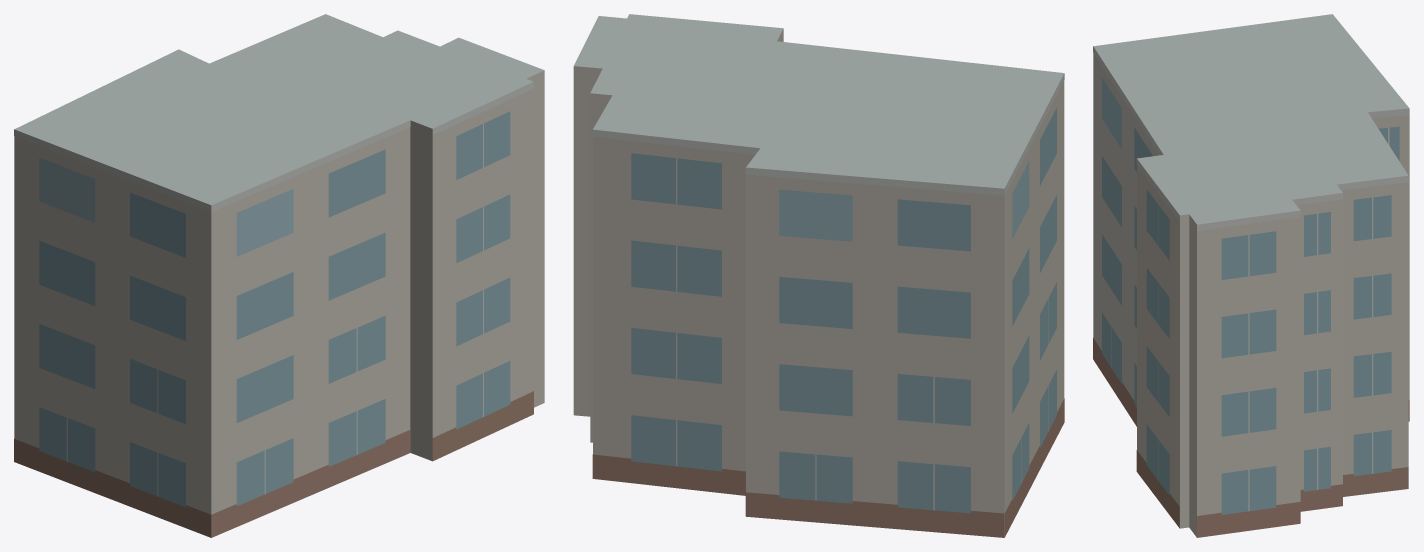
The model's file is survey-upis-32682440.glb.
3 views of the same model, side by side, from view 1: azimuth 30°, elevation 25°; view 2: azimuth 150°, elevation 25°; view 3: azimuth 270°, elevation 25° (orthographic). The views are drawn at different scales.
Visible parts, largest first — view 1: survey-upis-32682440.tmp; view 2: survey-upis-32682440.tmp; view 3: survey-upis-32682440.tmp.
Boxes of the visible parts, x1,y1,x2,y2 form: survey-upis-32682440.tmp: (14, 14, 544, 537); survey-upis-32682440.tmp: (573, 14, 1064, 537); survey-upis-32682440.tmp: (1093, 14, 1409, 537).
Size of the model in its own units: 17.32 by 12 by 11.
